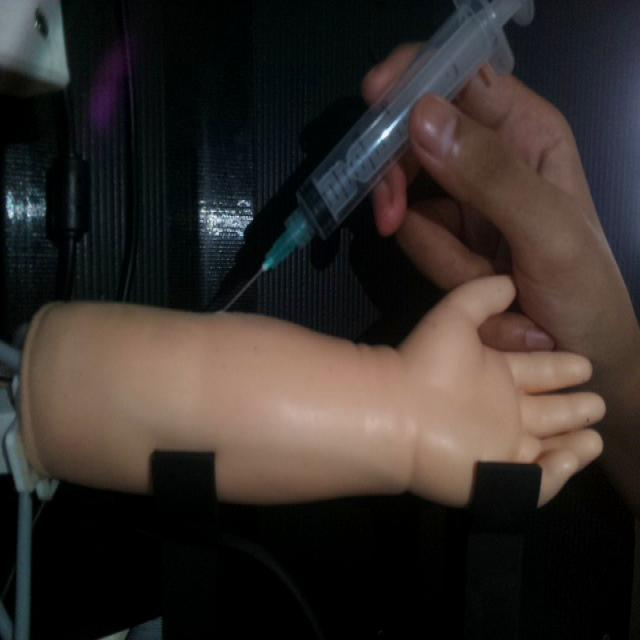Above 30 degrees: (215, 0, 535, 312)
